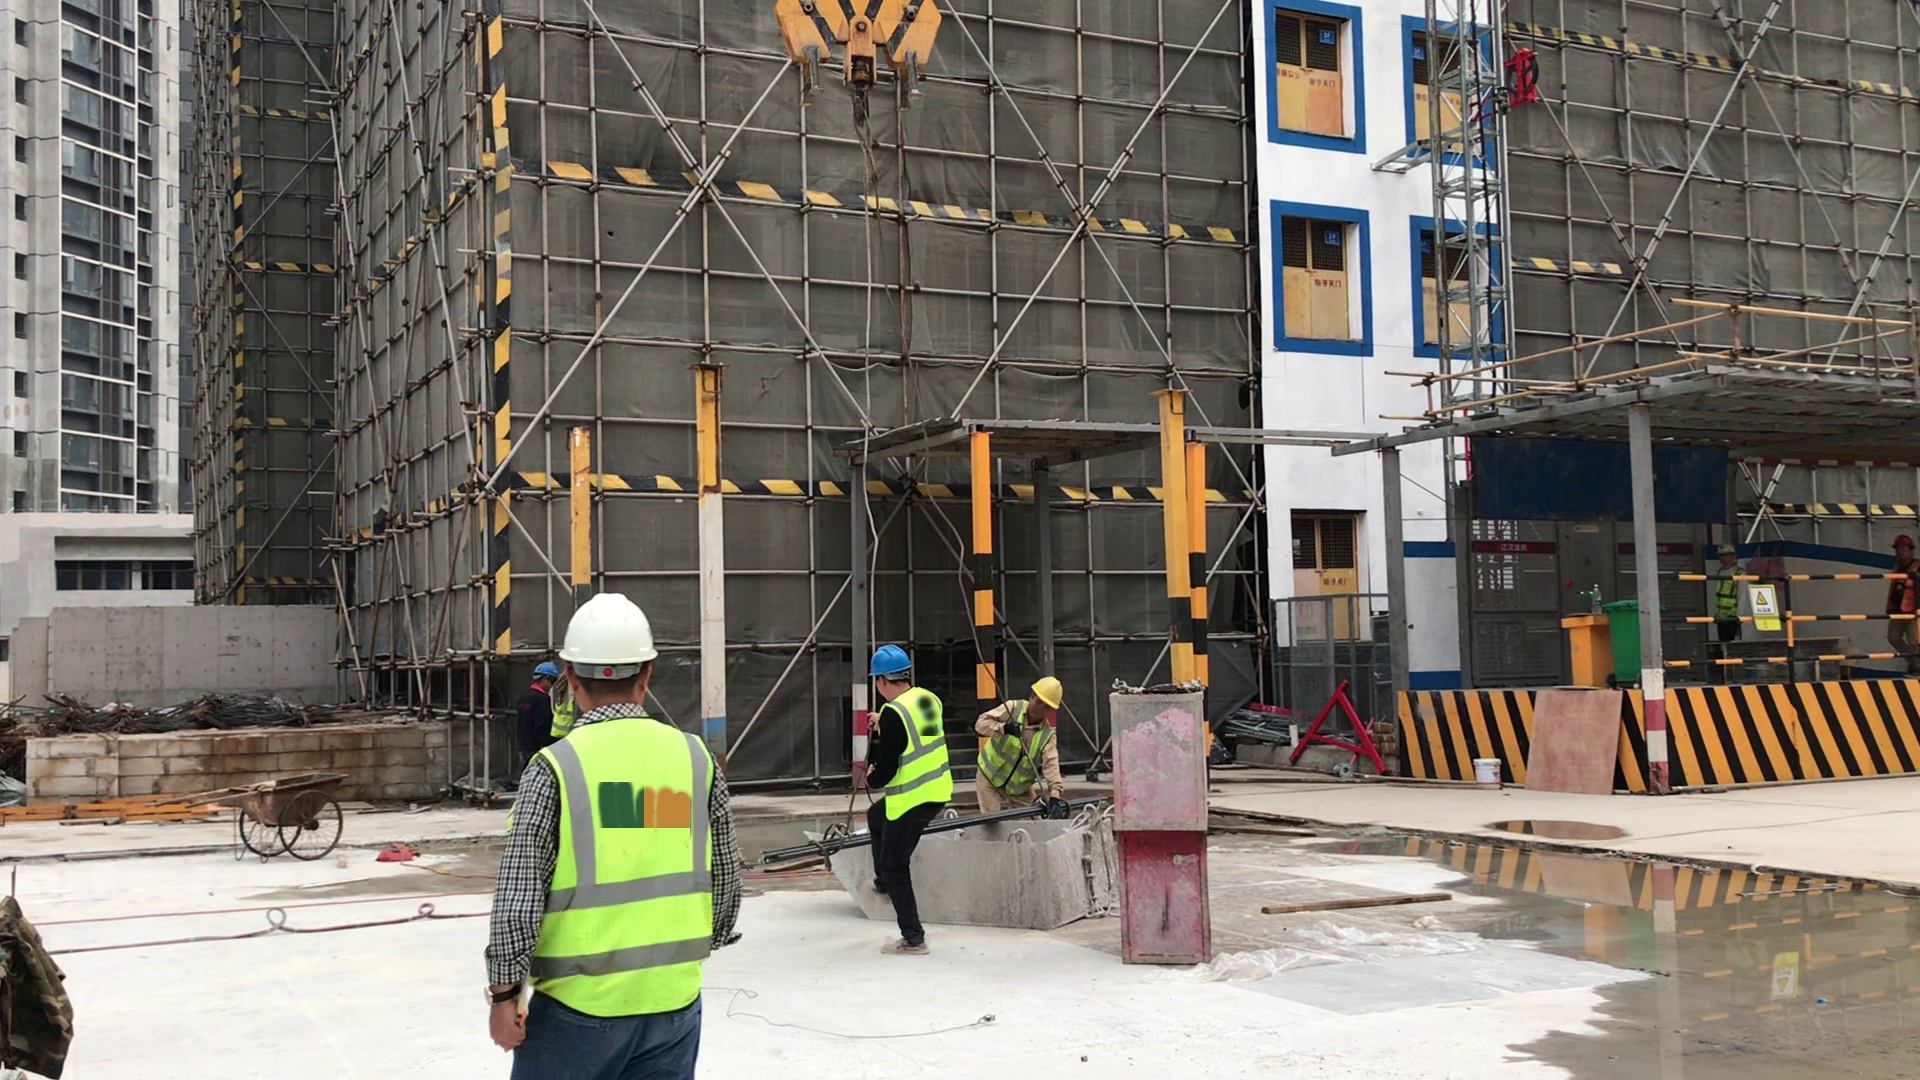fence: (1652, 566, 1920, 689)
handcart: (135, 749, 354, 876)
helmet: (562, 575, 665, 692), (854, 631, 915, 686), (1016, 661, 1071, 719), (524, 645, 562, 697), (1716, 538, 1740, 560), (1890, 530, 1915, 553)
hook: (745, 3, 985, 173)
hopper: (785, 800, 1126, 964)
person: (473, 580, 751, 1080), (835, 618, 956, 972), (966, 616, 1108, 865), (502, 645, 565, 789), (1879, 528, 1920, 682), (1708, 534, 1746, 639)
rebar: (754, 808, 872, 881), (952, 796, 1083, 830)
slogan: (1727, 570, 1791, 641)
vest: (507, 711, 734, 1020), (870, 689, 955, 838), (971, 695, 1066, 808), (1705, 554, 1755, 634), (1882, 561, 1917, 649), (541, 670, 579, 735)
